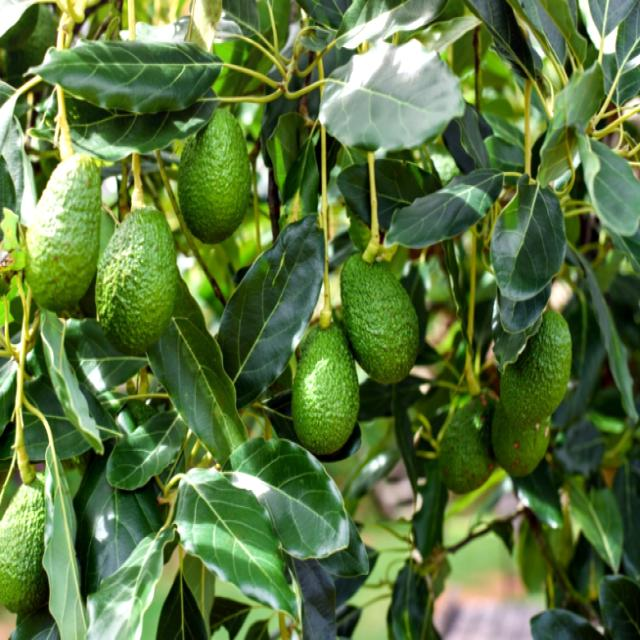fruit: (97, 207, 177, 356), (27, 154, 98, 312), (341, 253, 420, 386), (291, 327, 360, 458)
leaf: (226, 218, 325, 407), (226, 438, 348, 559), (152, 319, 247, 469), (493, 185, 566, 374), (39, 42, 223, 113), (387, 169, 503, 246), (68, 102, 214, 162), (42, 446, 86, 640), (40, 312, 100, 451)
occludedfruit: (177, 109, 252, 245), (501, 308, 573, 433), (0, 473, 45, 613), (440, 394, 498, 495), (497, 403, 551, 477)
occludedpeduncle: (524, 80, 532, 177), (127, 0, 136, 42)
peduncle: (16, 322, 36, 485), (320, 125, 333, 330), (361, 154, 381, 266), (55, 85, 75, 162), (130, 153, 146, 212), (467, 345, 481, 398)
